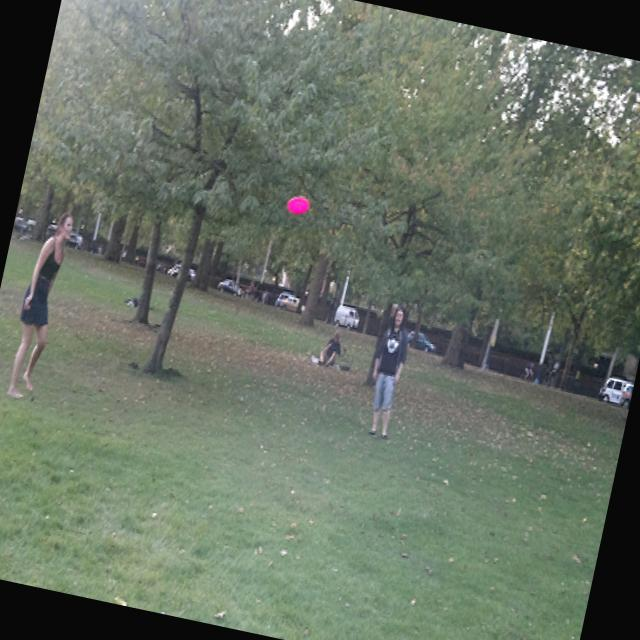Vehicle: (597, 374, 632, 408), (597, 376, 628, 405), (404, 330, 438, 354), (332, 304, 361, 332), (215, 276, 244, 298), (278, 294, 306, 315), (64, 230, 85, 250), (19, 218, 36, 242), (86, 238, 108, 256), (618, 382, 633, 407), (12, 214, 28, 233), (166, 261, 182, 278), (275, 290, 290, 308), (186, 266, 196, 281)
